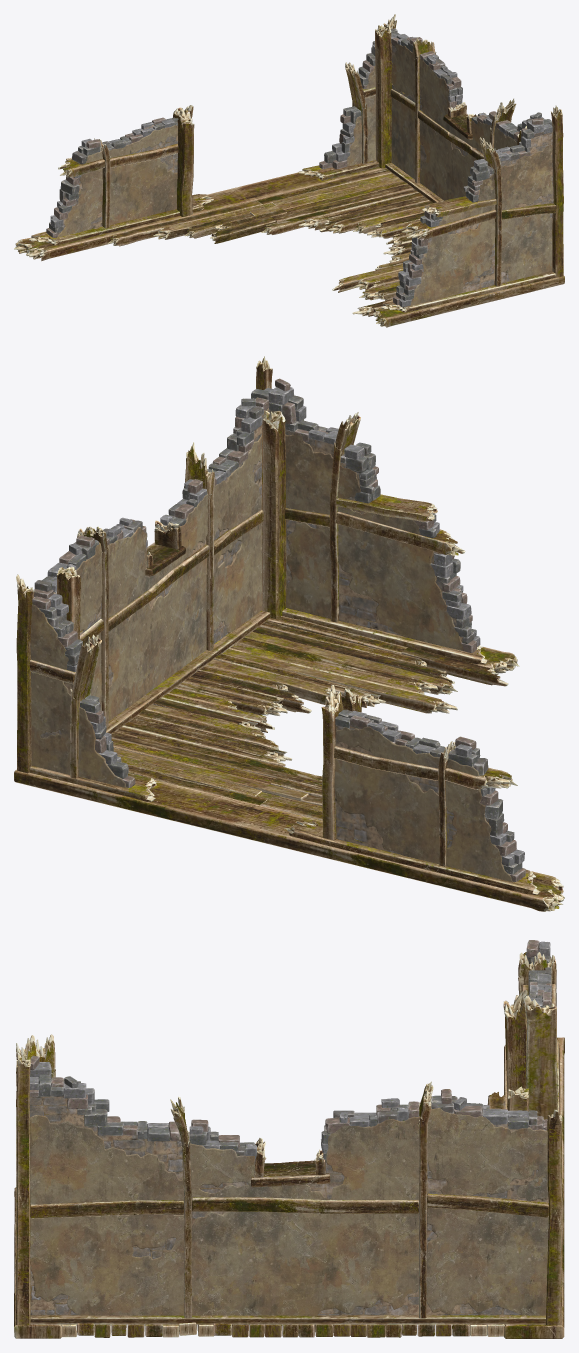
3 views of the same model, one above another, from view 1: azimuth 30°, elevation 25°; view 2: azimuth 150°, elevation 25°; view 3: azimuth 270°, elevation 25° (orthographic). The views are drawn at different scales.
Visible parts, largest first — view 1: SM_House_02_Dmg_LOD0; view 2: SM_House_02_Dmg_LOD0; view 3: SM_House_02_Dmg_LOD0.
Part boxes in pixels (bbox=[...]): SM_House_02_Dmg_LOD0: bbox=[14, 14, 564, 327]; SM_House_02_Dmg_LOD0: bbox=[14, 356, 564, 911]; SM_House_02_Dmg_LOD0: bbox=[14, 940, 564, 1338].
Size of the model in its own units: 9.99 by 4.47 by 7.83.
4 materials, 4 textured.
